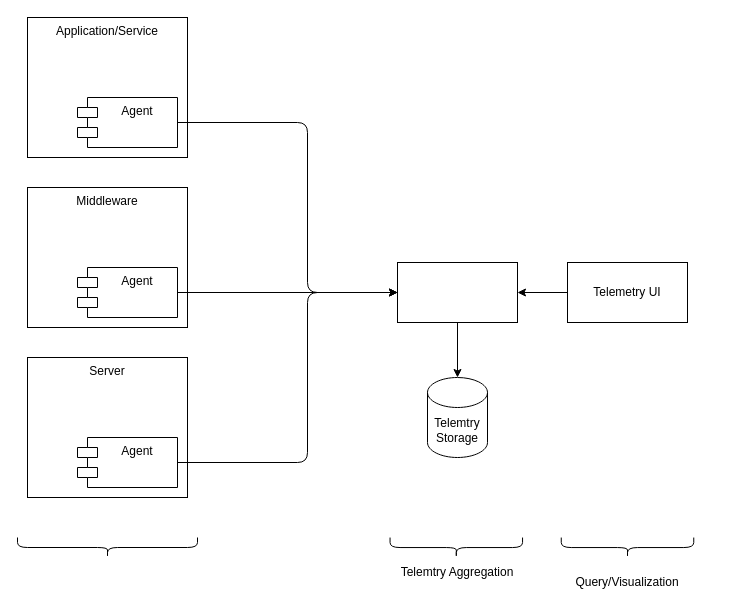
This 730x615 diagram has some shape labels left out. The shapes that lost their labels are listed below. From the top down, each one's centre as x and y in pixels, then its label:
(x=457, y=292): Telemtry Endpoint
(x=107, y=547): Monitored assets
